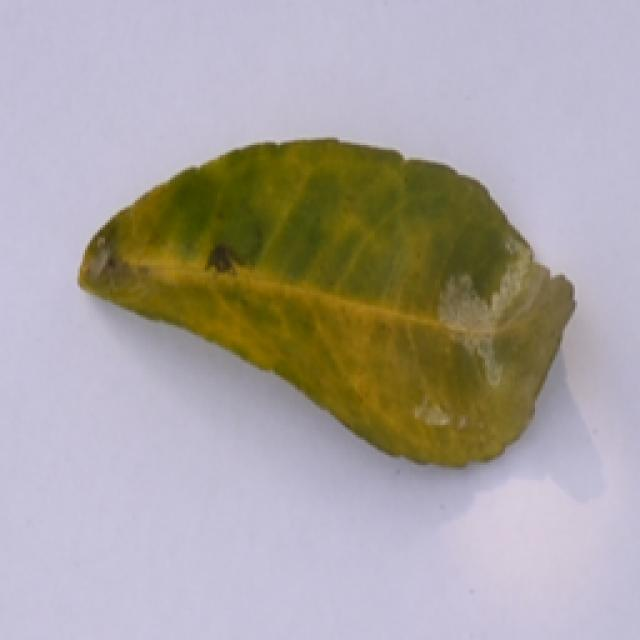greening: (65, 138, 600, 506)
